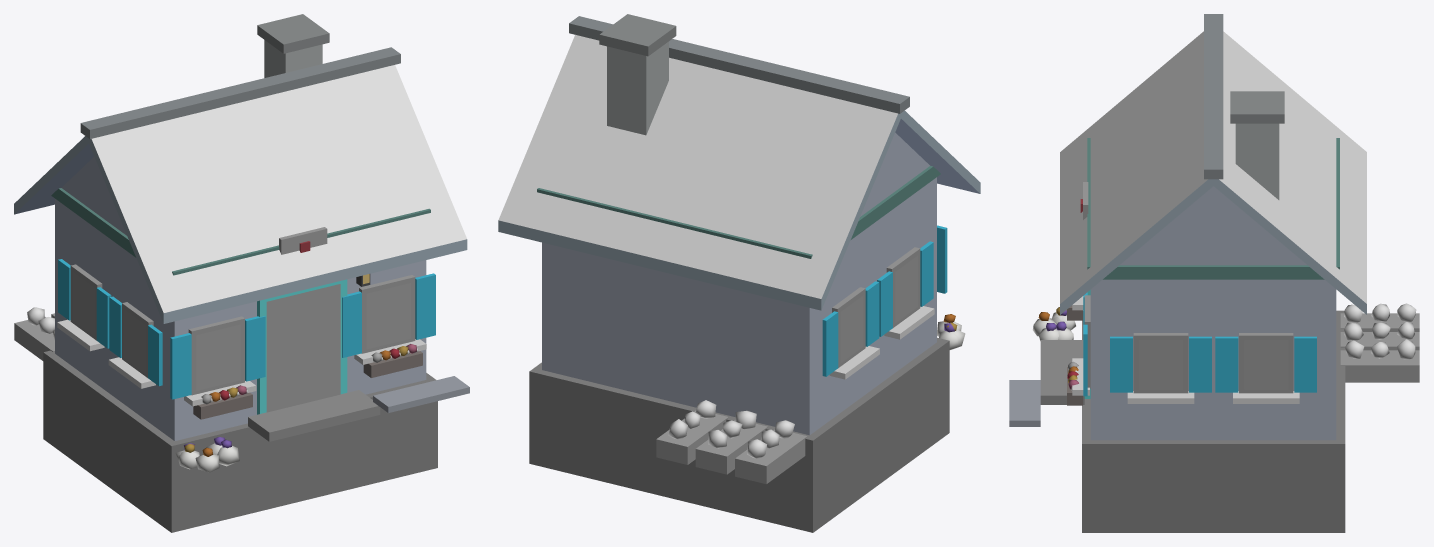
File: clinic.glb
The picture shows the model from 3 angles, left to right: view 1: azimuth 30°, elevation 25°; view 2: azimuth 150°, elevation 25°; view 3: azimuth 270°, elevation 25°; orthographic projection. The views are drawn at different scales.
Parts seen in each view (by area): view 1: clinic; view 2: clinic; view 3: clinic.
Boxes of the visible parts, x1,y1,x2,y2 form: clinic: (14, 14, 469, 532); clinic: (498, 14, 980, 532); clinic: (1009, 14, 1419, 532).
Bounding box in the file's own units: 4.2 × 5.04 × 4.68.
